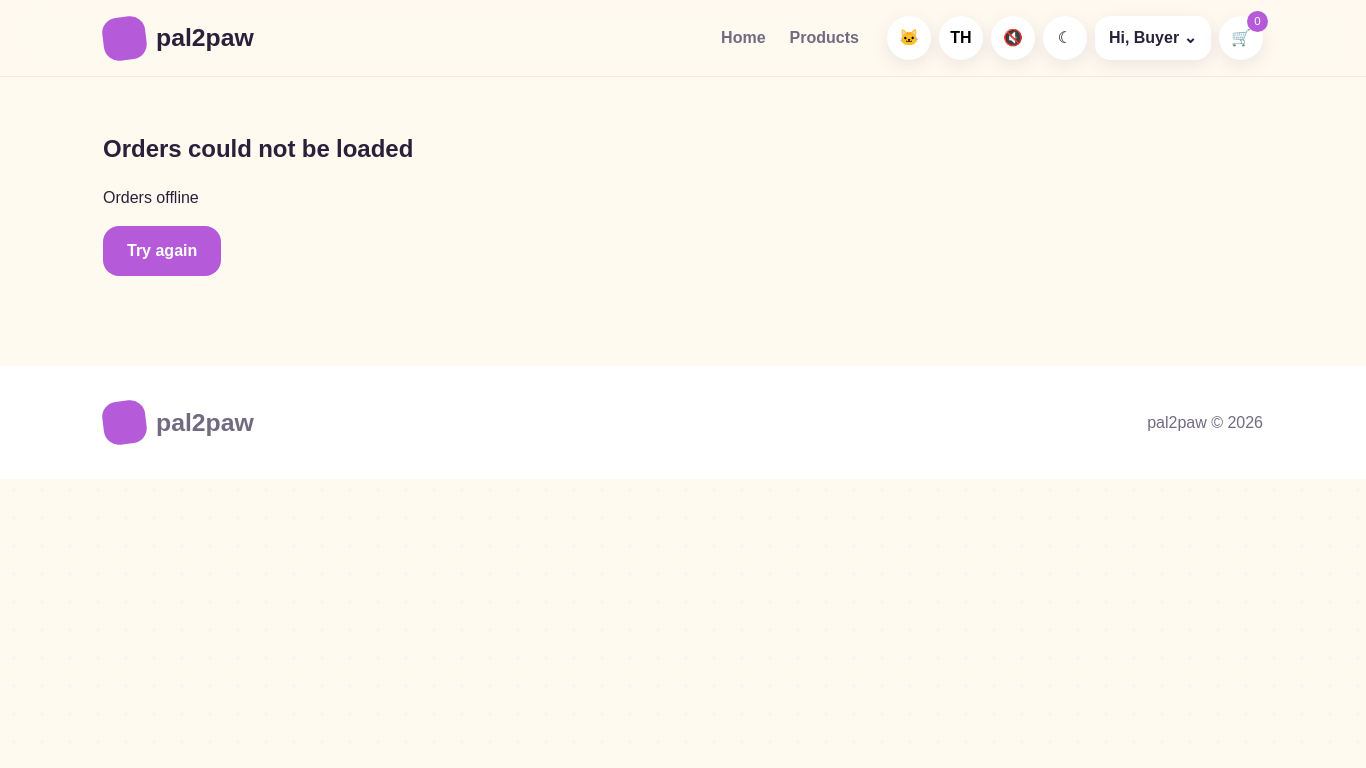
renders customer orders and retries a failed GET without showing stale data
Expected: the message reads "Orders offline", [103,188,199,206]
Step 1. Click the button "Try again" → [162, 251], box [103,226,221,276]
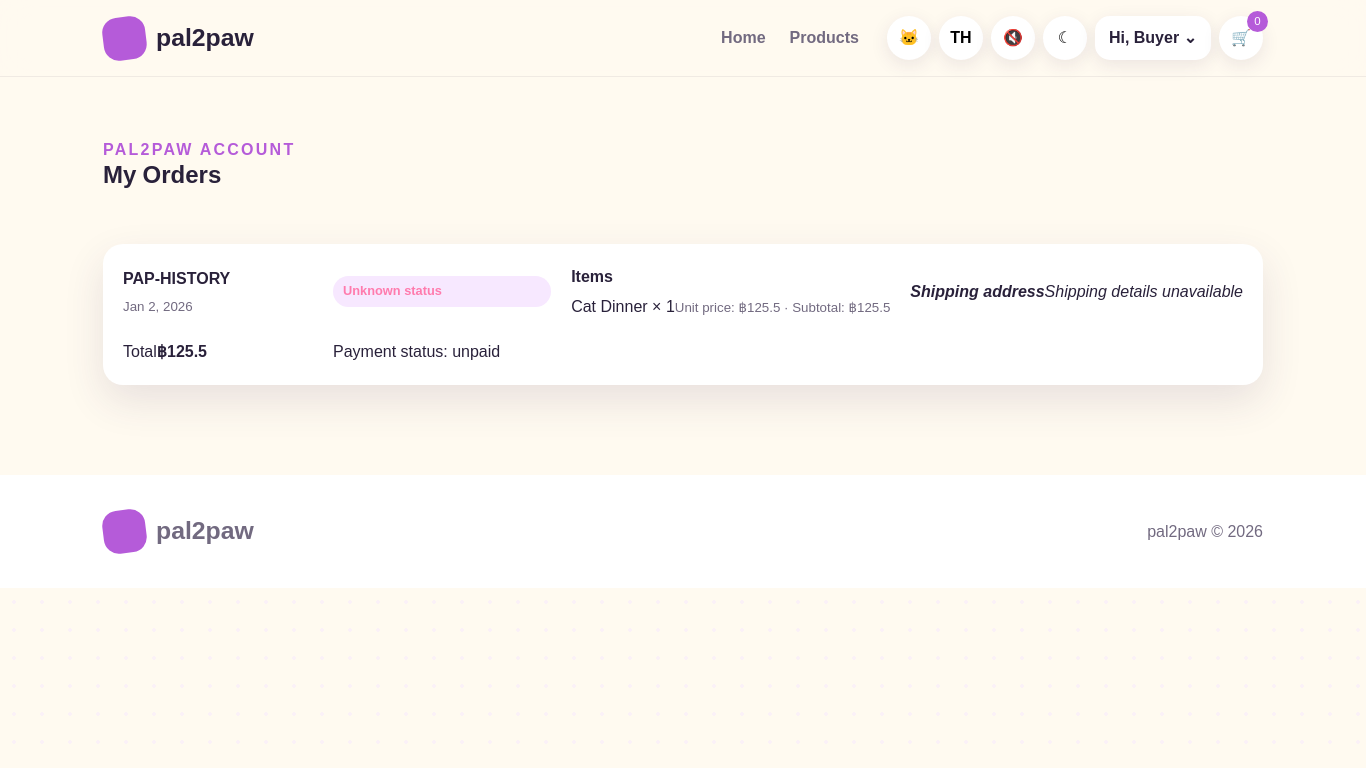
Expected: the text "PAP-HISTORY" is shown, [123,270,230,287]
Expected: the text "Cat Dinner × 1" is shown, [571,298,675,315]
Expected: the text "฿125.5" is shown, [157,343,207,360]
